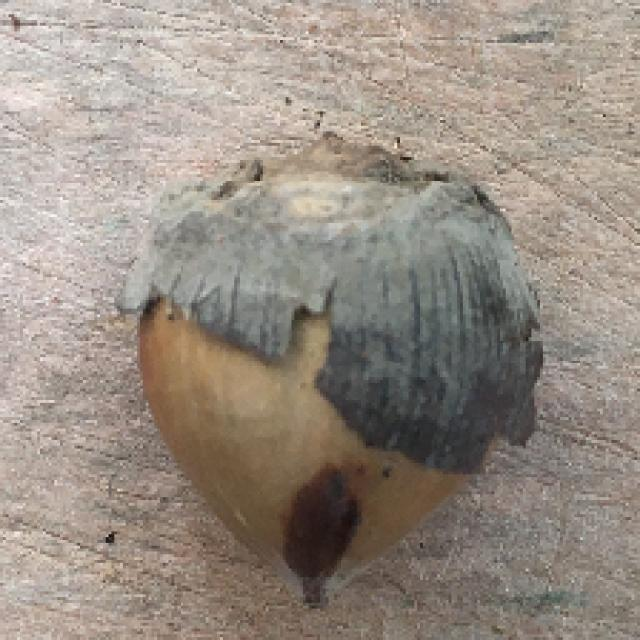DamagedHazelnut: (121, 135, 545, 606)
